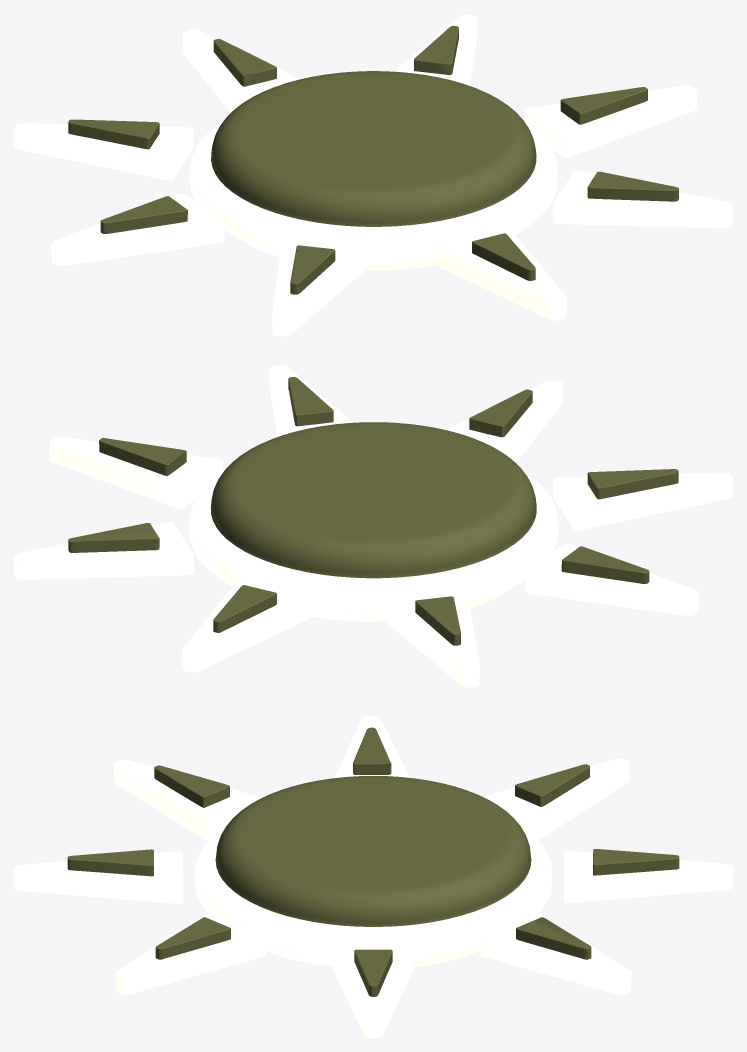
Rendered from Sun.fbx.
3 views of the same model, one above another, from view 1: azimuth 30°, elevation 25°; view 2: azimuth 150°, elevation 25°; view 3: azimuth 270°, elevation 25° (orthographic). The views are drawn at different scales.
Parts seen in each view (by area): view 1: sun; view 2: sun; view 3: sun.
Boxes of the visible parts, x1,y1,x2,y2 form: sun: [14, 14, 732, 336]; sun: [14, 365, 732, 687]; sun: [14, 716, 732, 1037].
Bounding box in the file's own units: 85.02 × 11.18 × 85.02.
